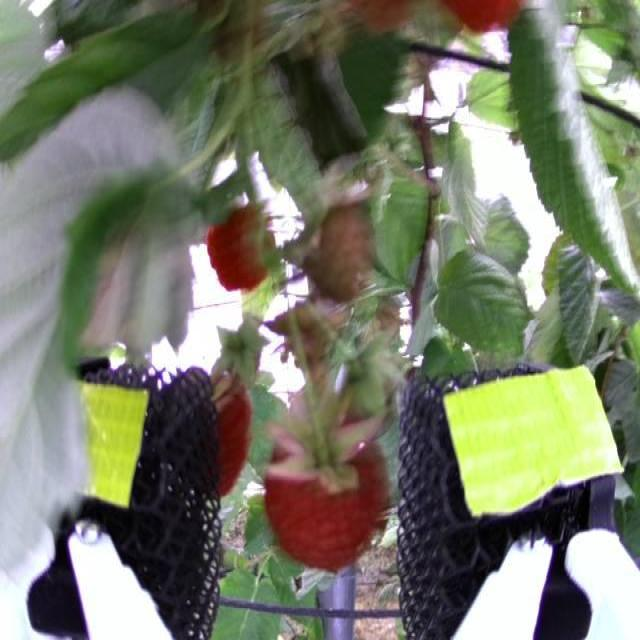Riped berries: (263, 408, 402, 568), (186, 361, 257, 492), (206, 189, 284, 294), (449, 0, 522, 44)
